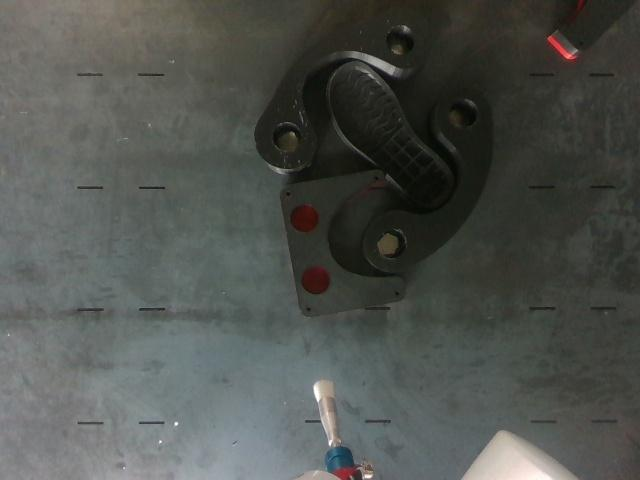shoes: (329, 62, 454, 205)
